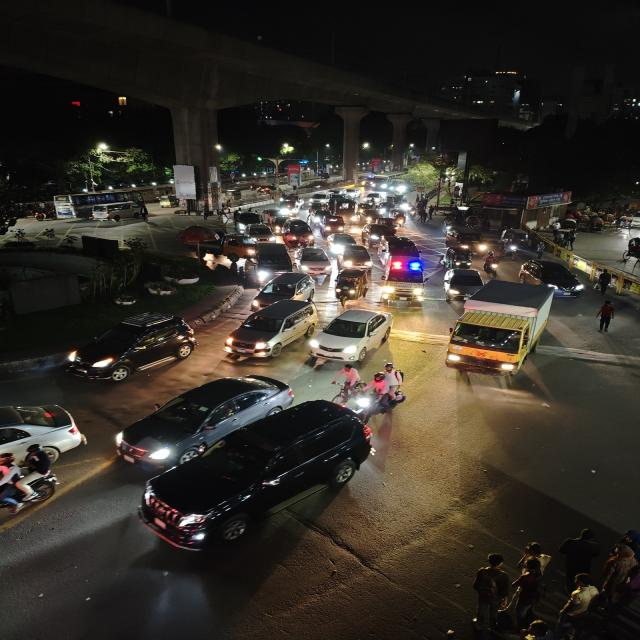bus: (371, 174, 391, 190), (390, 176, 409, 192)
car: (130, 396, 375, 556), (107, 370, 296, 466), (58, 310, 199, 384), (223, 298, 317, 362), (0, 400, 89, 465), (307, 306, 396, 367), (519, 258, 586, 298), (376, 256, 429, 306), (247, 272, 316, 310), (248, 243, 295, 281), (441, 267, 487, 298), (296, 247, 334, 275), (340, 245, 373, 270), (284, 219, 316, 243), (232, 210, 264, 232), (326, 232, 359, 252), (362, 222, 390, 245), (246, 224, 277, 243), (280, 202, 300, 216), (310, 191, 328, 206)
cng: (334, 268, 371, 302), (444, 247, 474, 269), (156, 195, 178, 208), (337, 198, 354, 212)
motorcycle: (0, 457, 61, 516), (359, 360, 407, 420), (332, 362, 362, 396), (482, 251, 502, 276)
pedestrian: (462, 553, 507, 635), (557, 574, 608, 630), (506, 560, 548, 627), (560, 526, 600, 576), (591, 300, 621, 334), (517, 618, 557, 640), (595, 270, 613, 294), (532, 238, 548, 257)
pickup_van: (320, 216, 346, 236)
rickshaw: (445, 226, 490, 254), (498, 227, 529, 256), (174, 224, 214, 246), (622, 235, 640, 263), (586, 215, 604, 233), (602, 214, 618, 229)
truck: (442, 282, 556, 383)
